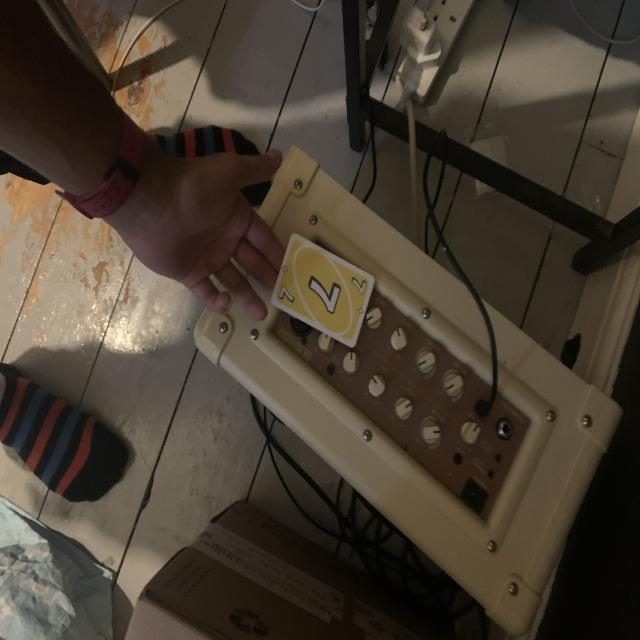lyellow-7: (274, 280, 302, 309)
